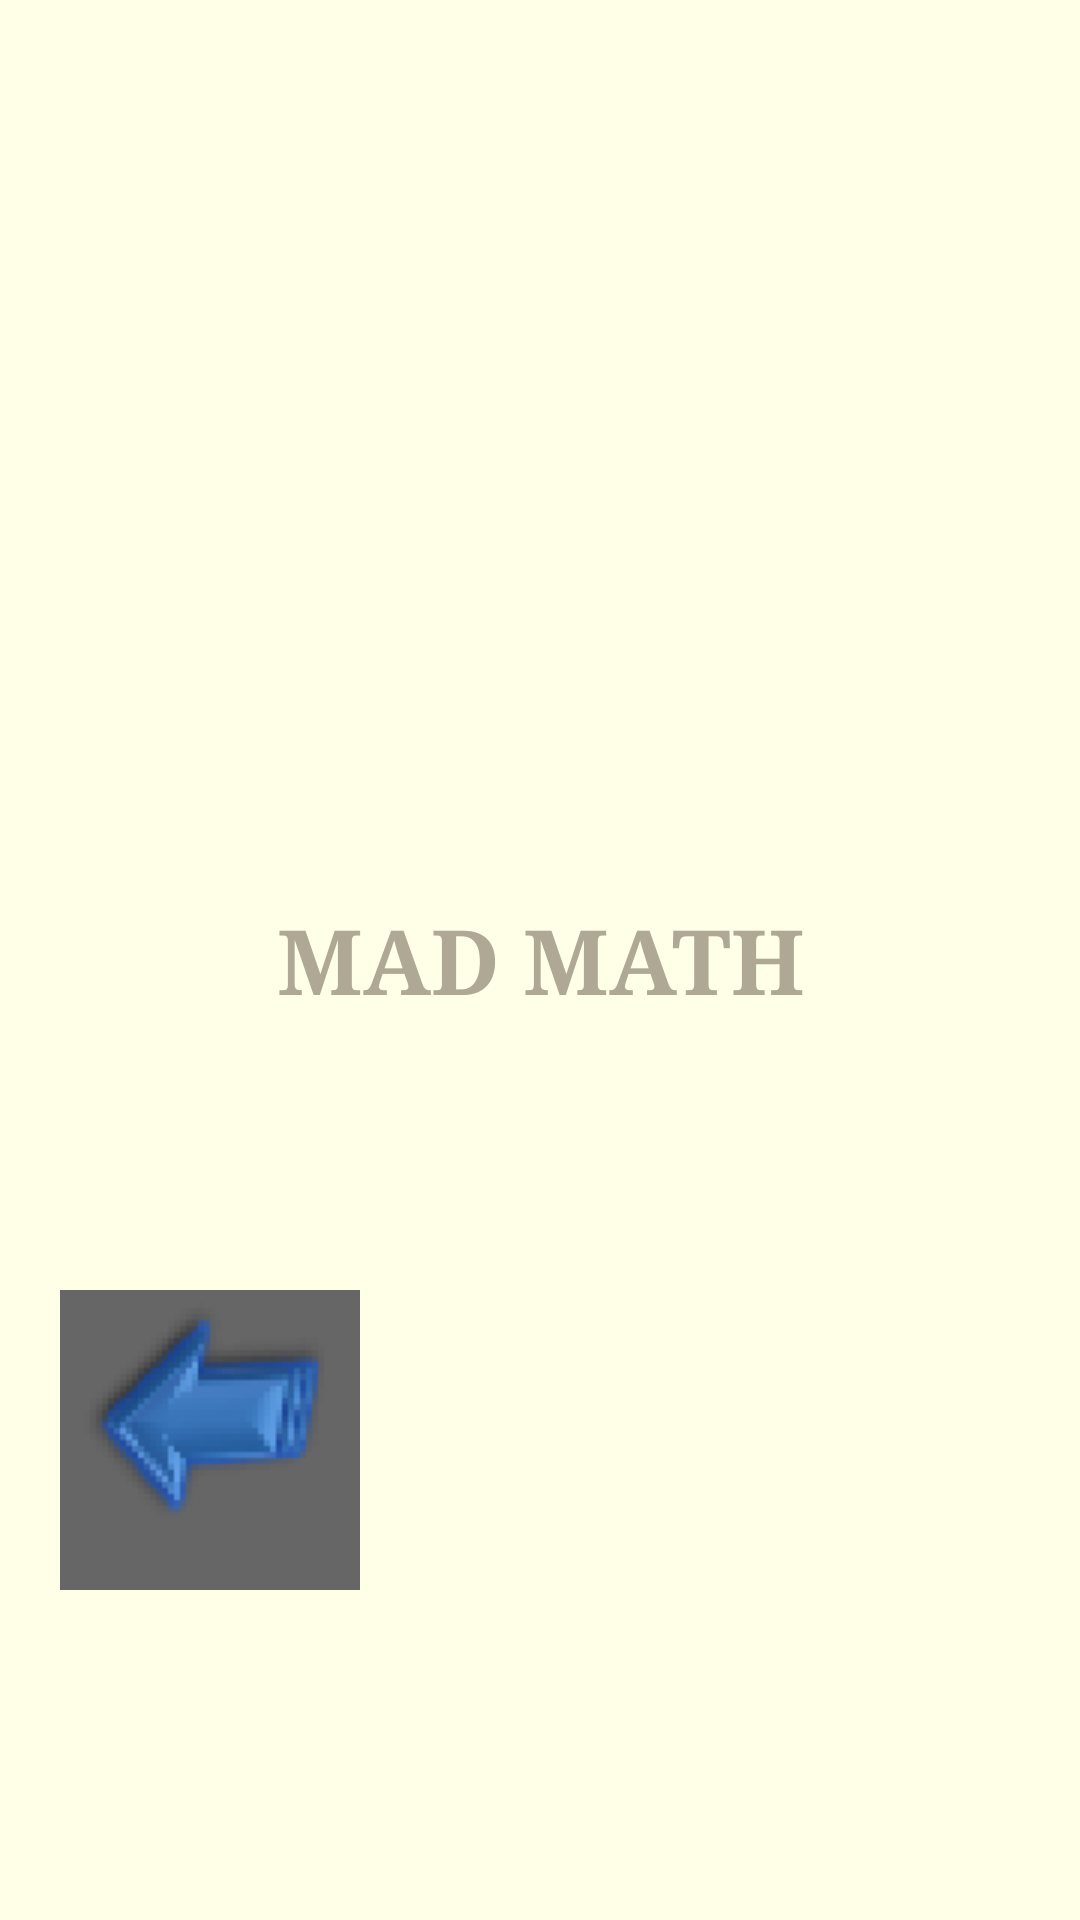

Screen size 1080 × 1920. Icon name, then its center in pixels as [x,y]:
leftarrow: [210,1440]
